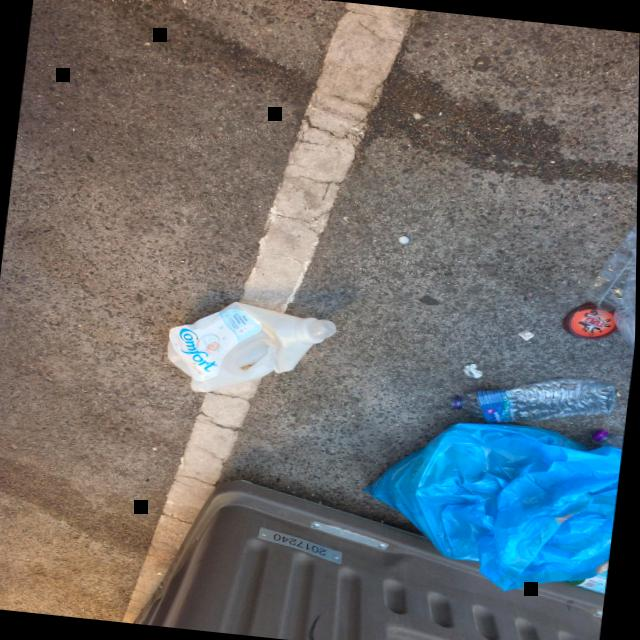Aluminium foil: (461, 363, 482, 376)
Clear plastic bottle: (451, 376, 616, 422), (614, 221, 637, 349), (592, 427, 625, 449)
Disposable food container: (586, 220, 637, 311)
Garbage bag: (363, 421, 623, 590)
Metal bottle cap: (398, 235, 410, 243)
Other plastic bottle: (565, 569, 609, 594)
Other plastic container: (167, 300, 335, 391)
Plastic bottle cap: (300, 316, 337, 342), (591, 426, 607, 439)
Plastic lid: (563, 302, 617, 338)
Unlabeled litter: (518, 328, 534, 339)
